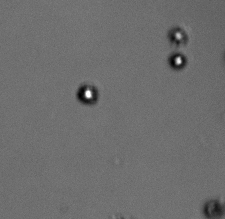Dead Cell: (203, 199, 223, 217)
Living Cell: (75, 82, 99, 106), (168, 50, 189, 71), (168, 24, 189, 44)
